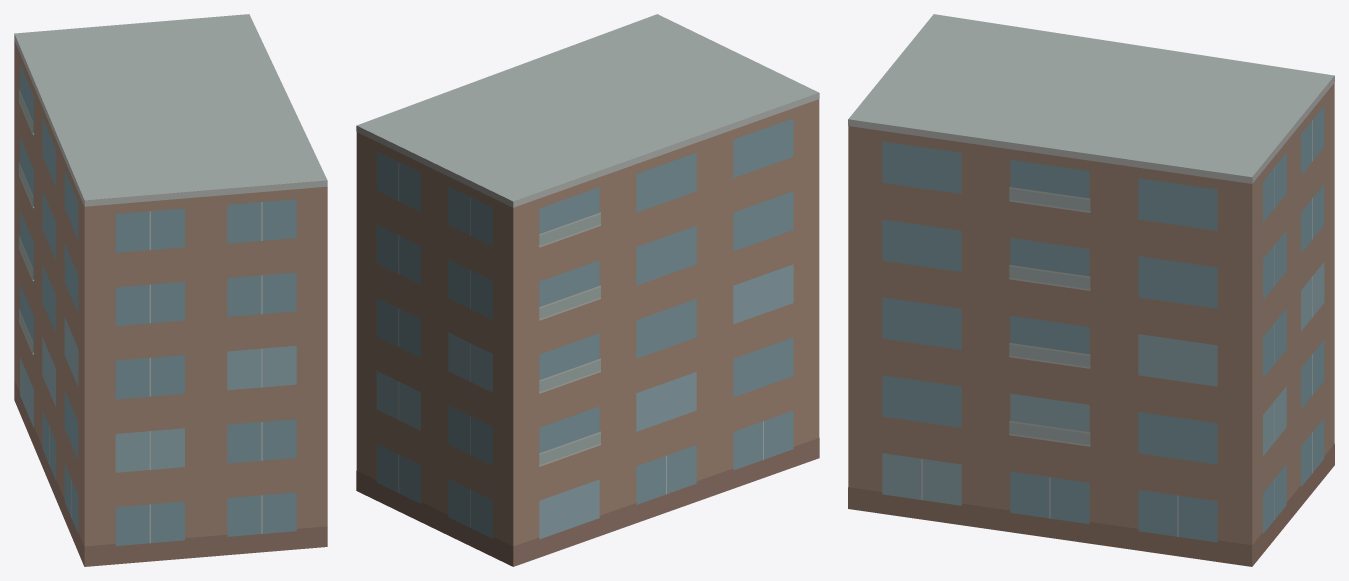
The model's file is survey-upis-32849529.glb.
3 renders of one model, left to right at view 1: azimuth 30°, elevation 25°; view 2: azimuth 150°, elevation 25°; view 3: azimuth 270°, elevation 25°, orthographic. The views are drawn at different scales.
Parts seen in each view (by area): view 1: survey-upis-32849529.tmp; view 2: survey-upis-32849529.tmp; view 3: survey-upis-32849529.tmp.
Part boxes in pixels (left/top/right/bottom): survey-upis-32849529.tmp: left=14, top=14, right=327, bottom=566; survey-upis-32849529.tmp: left=356, top=14, right=819, bottom=566; survey-upis-32849529.tmp: left=848, top=14, right=1334, bottom=566.
Size of the model in its own units: 12.77 by 14.2 by 16.08.
